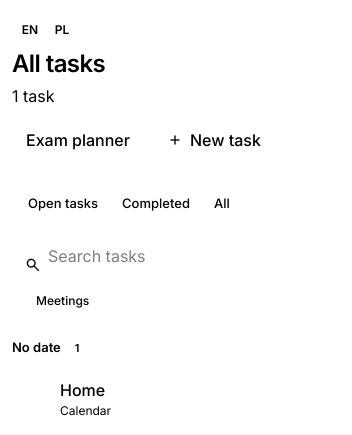
Scenario: translates task controls but keeps user titles, notes, category names and status IDs intact
This screenshot has width=352, height=435.
Click the button "PL" at (62, 30), box [46,14,78,46]
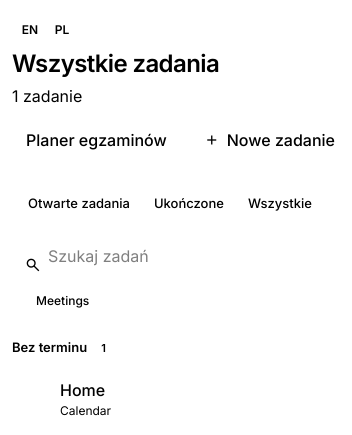
Expected: the text "Home" is shown, [60,380,105,400]
Now the heading "Wszystkie zadania" is shown, box [12,49,219,78]
